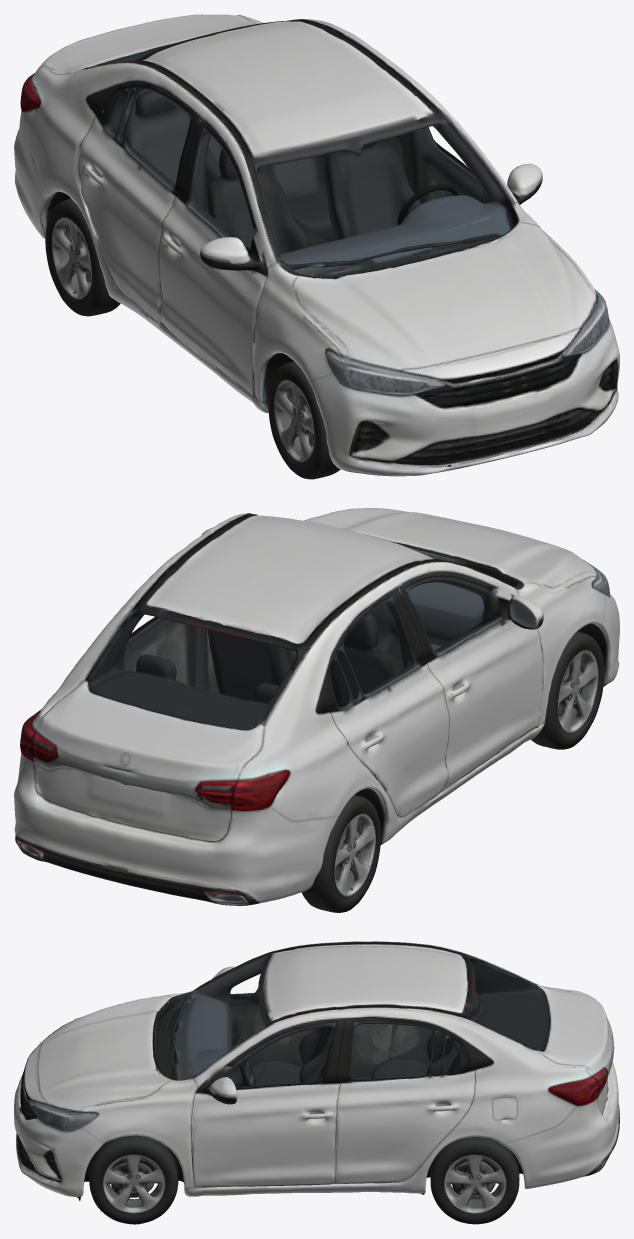
Rendered from sedan.fbx.
3 views of the same model, one above another, from view 1: azimuth 30°, elevation 25°; view 2: azimuth 150°, elevation 25°; view 3: azimuth 270°, elevation 25° (orthographic). The views are drawn at different scales.
Visible parts, largest first — view 1: tripo_node_43709bee; view 2: tripo_node_43709bee; view 3: tripo_node_43709bee.
Part boxes in pixels (x1=…): tripo_node_43709bee: x1=14, y1=14, x2=619, y2=479; tripo_node_43709bee: x1=14, y1=508, x2=619, y2=912; tripo_node_43709bee: x1=14, y1=941, x2=619, y2=1224.
Size of the model in its own units: 48.45 by 35.98 by 97.95.
Materials: 1 (1 with a texture image).
